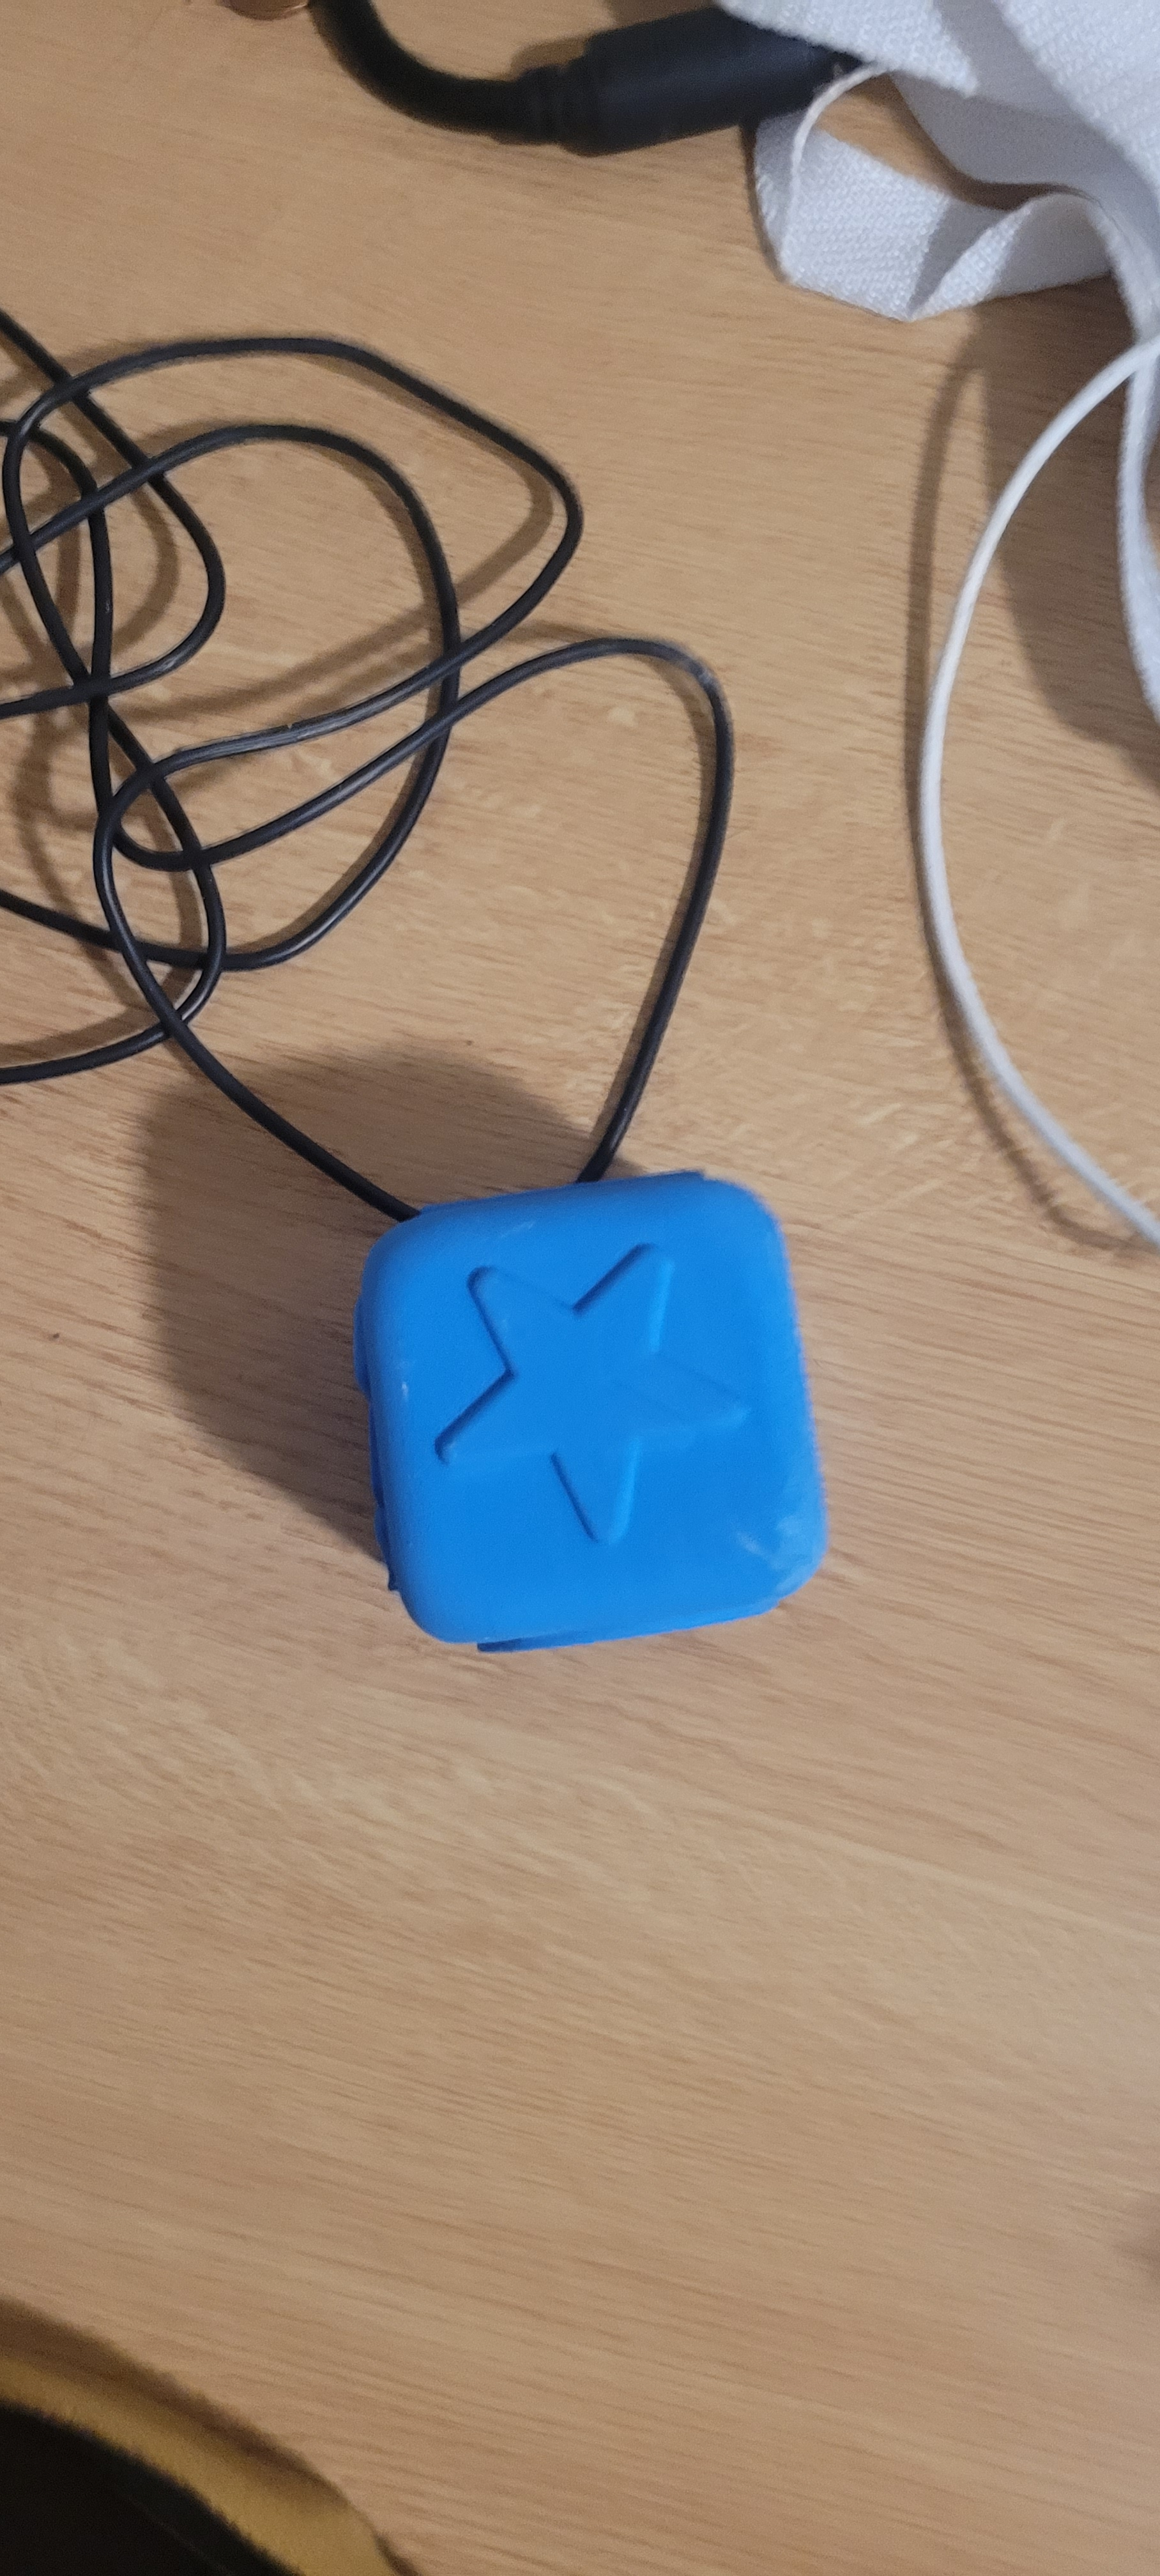Star: (399, 1242, 764, 1549)
